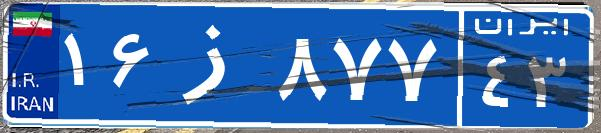1: (57, 26, 110, 107)
3: (525, 38, 570, 115)
4: (475, 38, 525, 113)
6: (110, 28, 158, 105)
7: (385, 28, 445, 110), (330, 28, 385, 110)
8: (273, 28, 330, 110)
ز: (158, 15, 273, 115)
